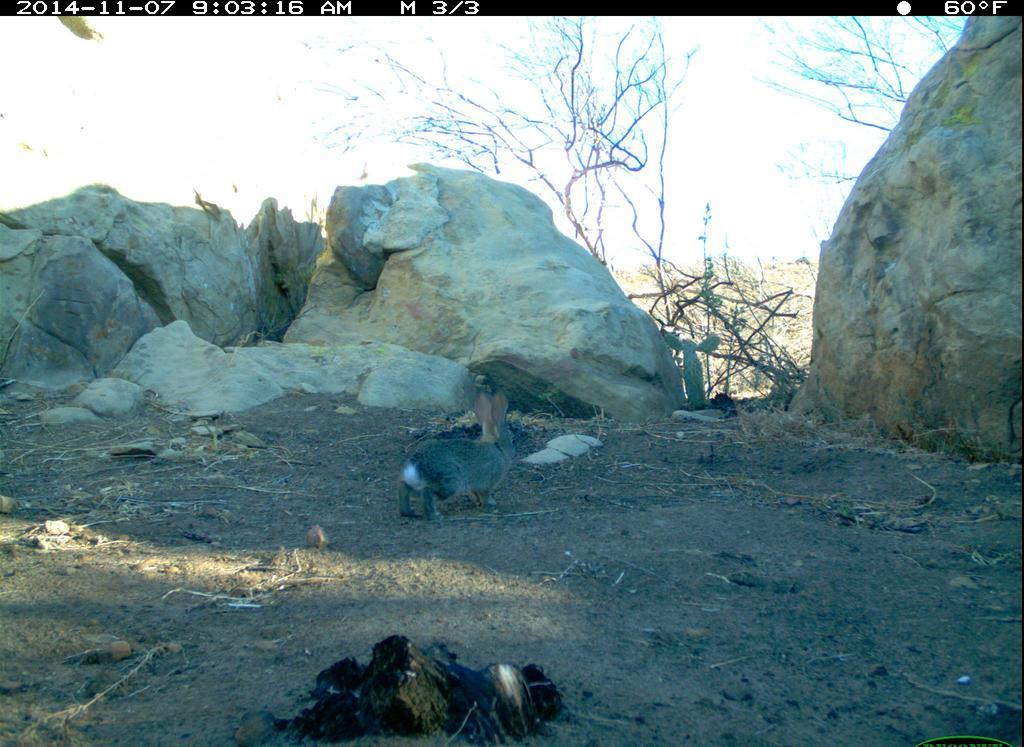rabbit: (391, 381, 524, 529)
